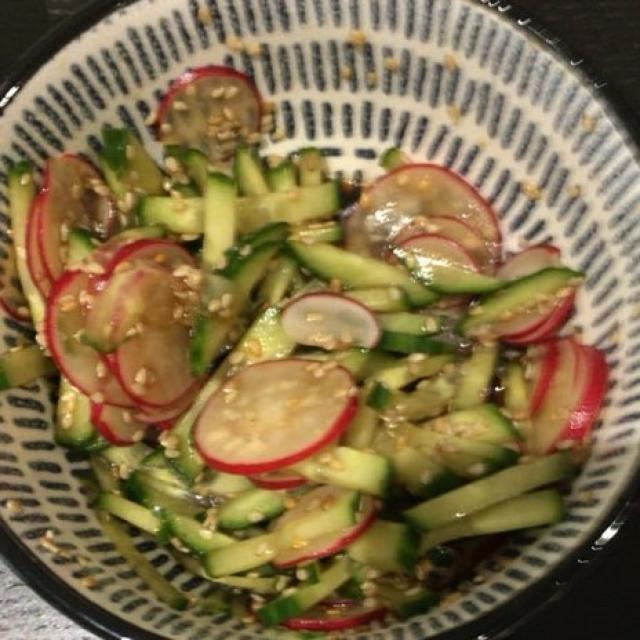cucumber: (16, 61, 598, 613)
radish: (22, 56, 600, 453)
